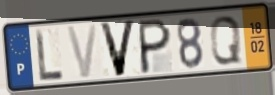8: (175, 16, 206, 71)
L: (33, 27, 65, 84)
P: (139, 17, 173, 76)
Q: (208, 14, 243, 67)
V: (97, 18, 138, 79), (64, 22, 100, 81)
